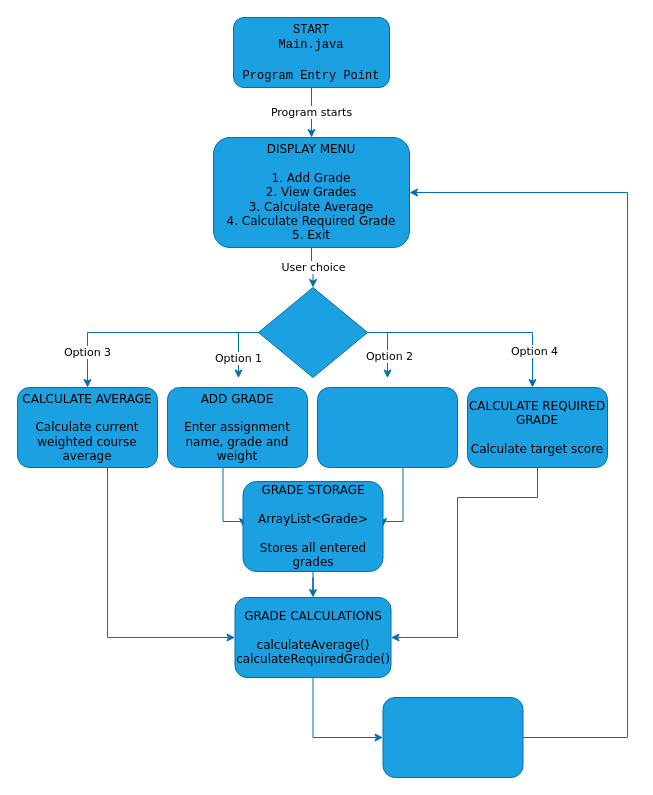
Image size: 653x795. Some labels were removed from this diagram. The box of each missing label's shape, as (x1, y1, x2, y2) in pixels:
DISPLAY RESULTS Show calculated grades and course averages: (382, 696, 523, 778)
USER SELECTS AN ACTION: (258, 286, 368, 378)
VIEW GRADES Display saved assignments and grades: (316, 386, 458, 468)
